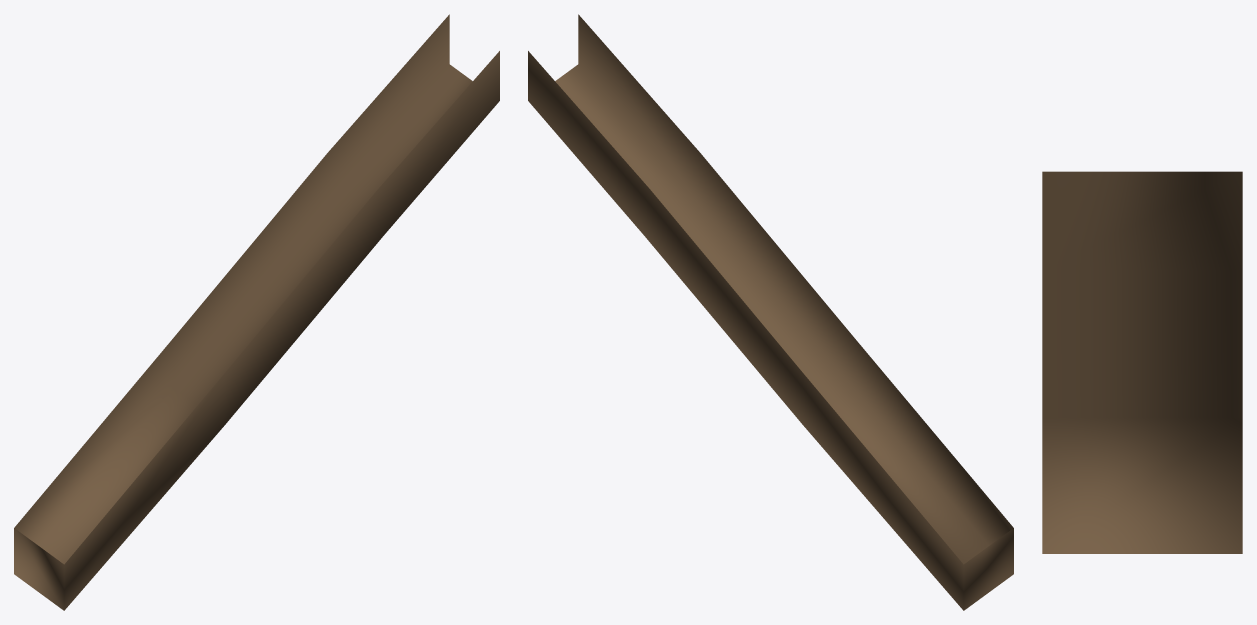
The model's file is rpgpp_ag_roof_end_01_6x3_beam_half_a.fbx.
The picture shows the model from 3 angles, left to right: view 1: azimuth 30°, elevation 25°; view 2: azimuth 150°, elevation 25°; view 3: azimuth 270°, elevation 25°; orthographic projection. The views are drawn at different scales.
Parts seen in each view (by area): view 1: rpgpp_ag_roof_end_01_6x3_beam_half_a; view 2: rpgpp_ag_roof_end_01_6x3_beam_half_a; view 3: rpgpp_ag_roof_end_01_6x3_beam_half_a.
Part boxes in pixels (left/top/right/bottom): rpgpp_ag_roof_end_01_6x3_beam_half_a: left=14, top=14, right=499, bottom=610; rpgpp_ag_roof_end_01_6x3_beam_half_a: left=528, top=14, right=1013, bottom=610; rpgpp_ag_roof_end_01_6x3_beam_half_a: left=1042, top=171, right=1242, bottom=553.
Bounding box in the file's own units: 3.28 × 3.27 × 0.6538.
